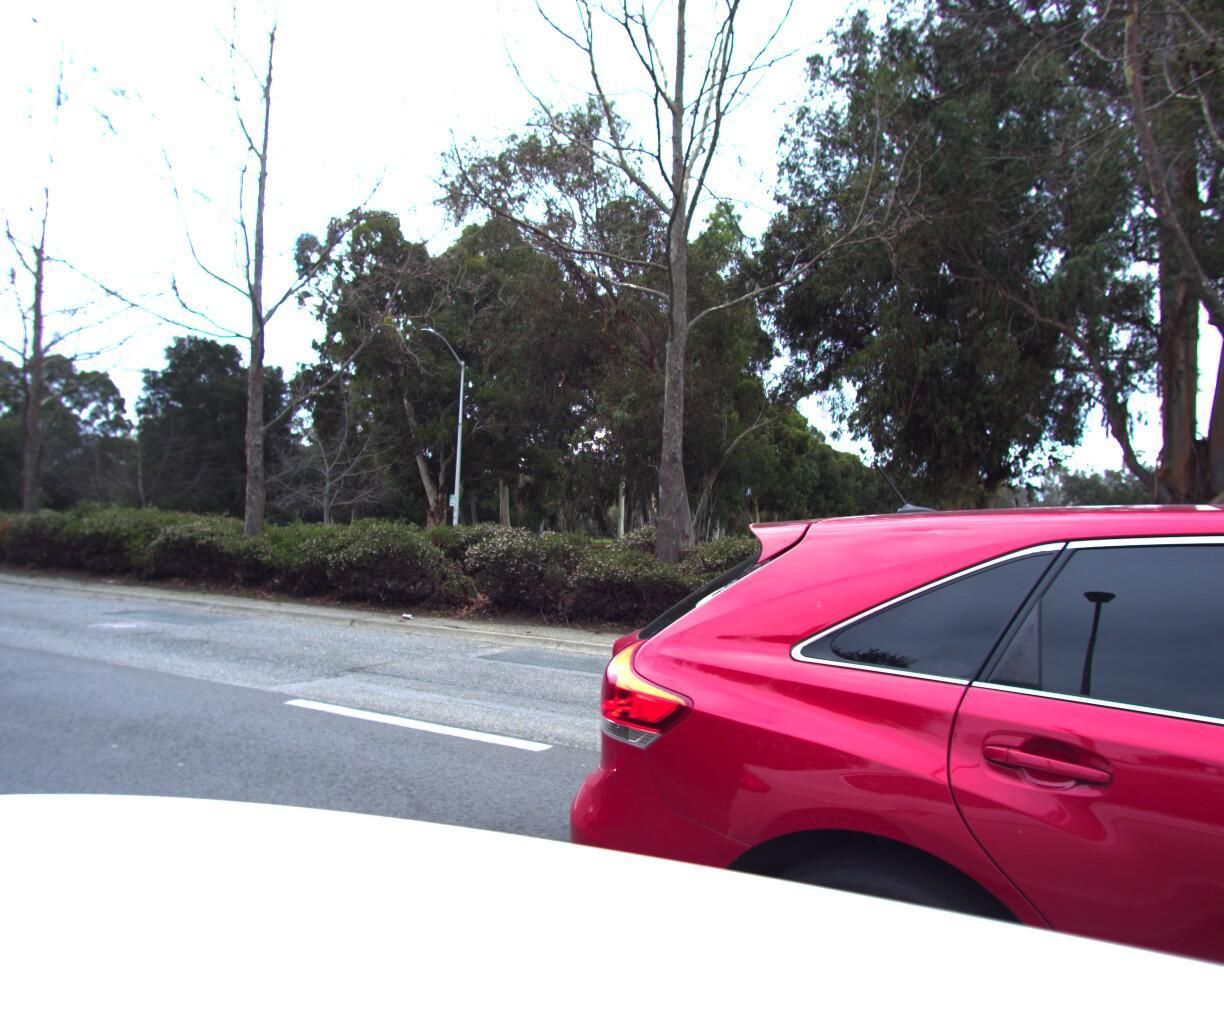car: (471, 470, 1224, 1024)
